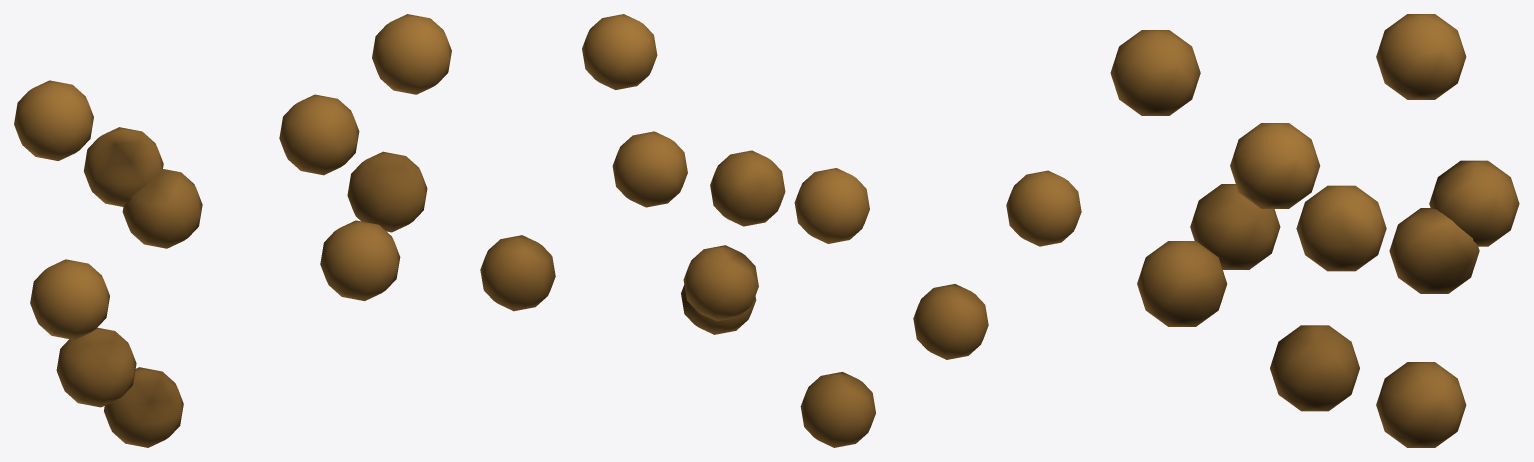
File: sand-spray.obj
3 views of the same model, side by side, from view 1: azimuth 30°, elevation 25°; view 2: azimuth 150°, elevation 25°; view 3: azimuth 270°, elevation 25° (orthographic). The views are drawn at different scales.
Visible parts, largest first — view 1: sand-spray; view 2: sand-spray; view 3: sand-spray.
Boxes of the visible parts, box(x1,y1,x2,y2) form: sand-spray: box(14, 14, 451, 447); sand-spray: box(480, 14, 1081, 447); sand-spray: box(1110, 14, 1519, 447).
Bounding box in the file's own units: 0.4847 × 0.348 × 0.308.
